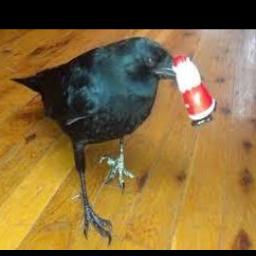Crow: (10, 36, 191, 244)
